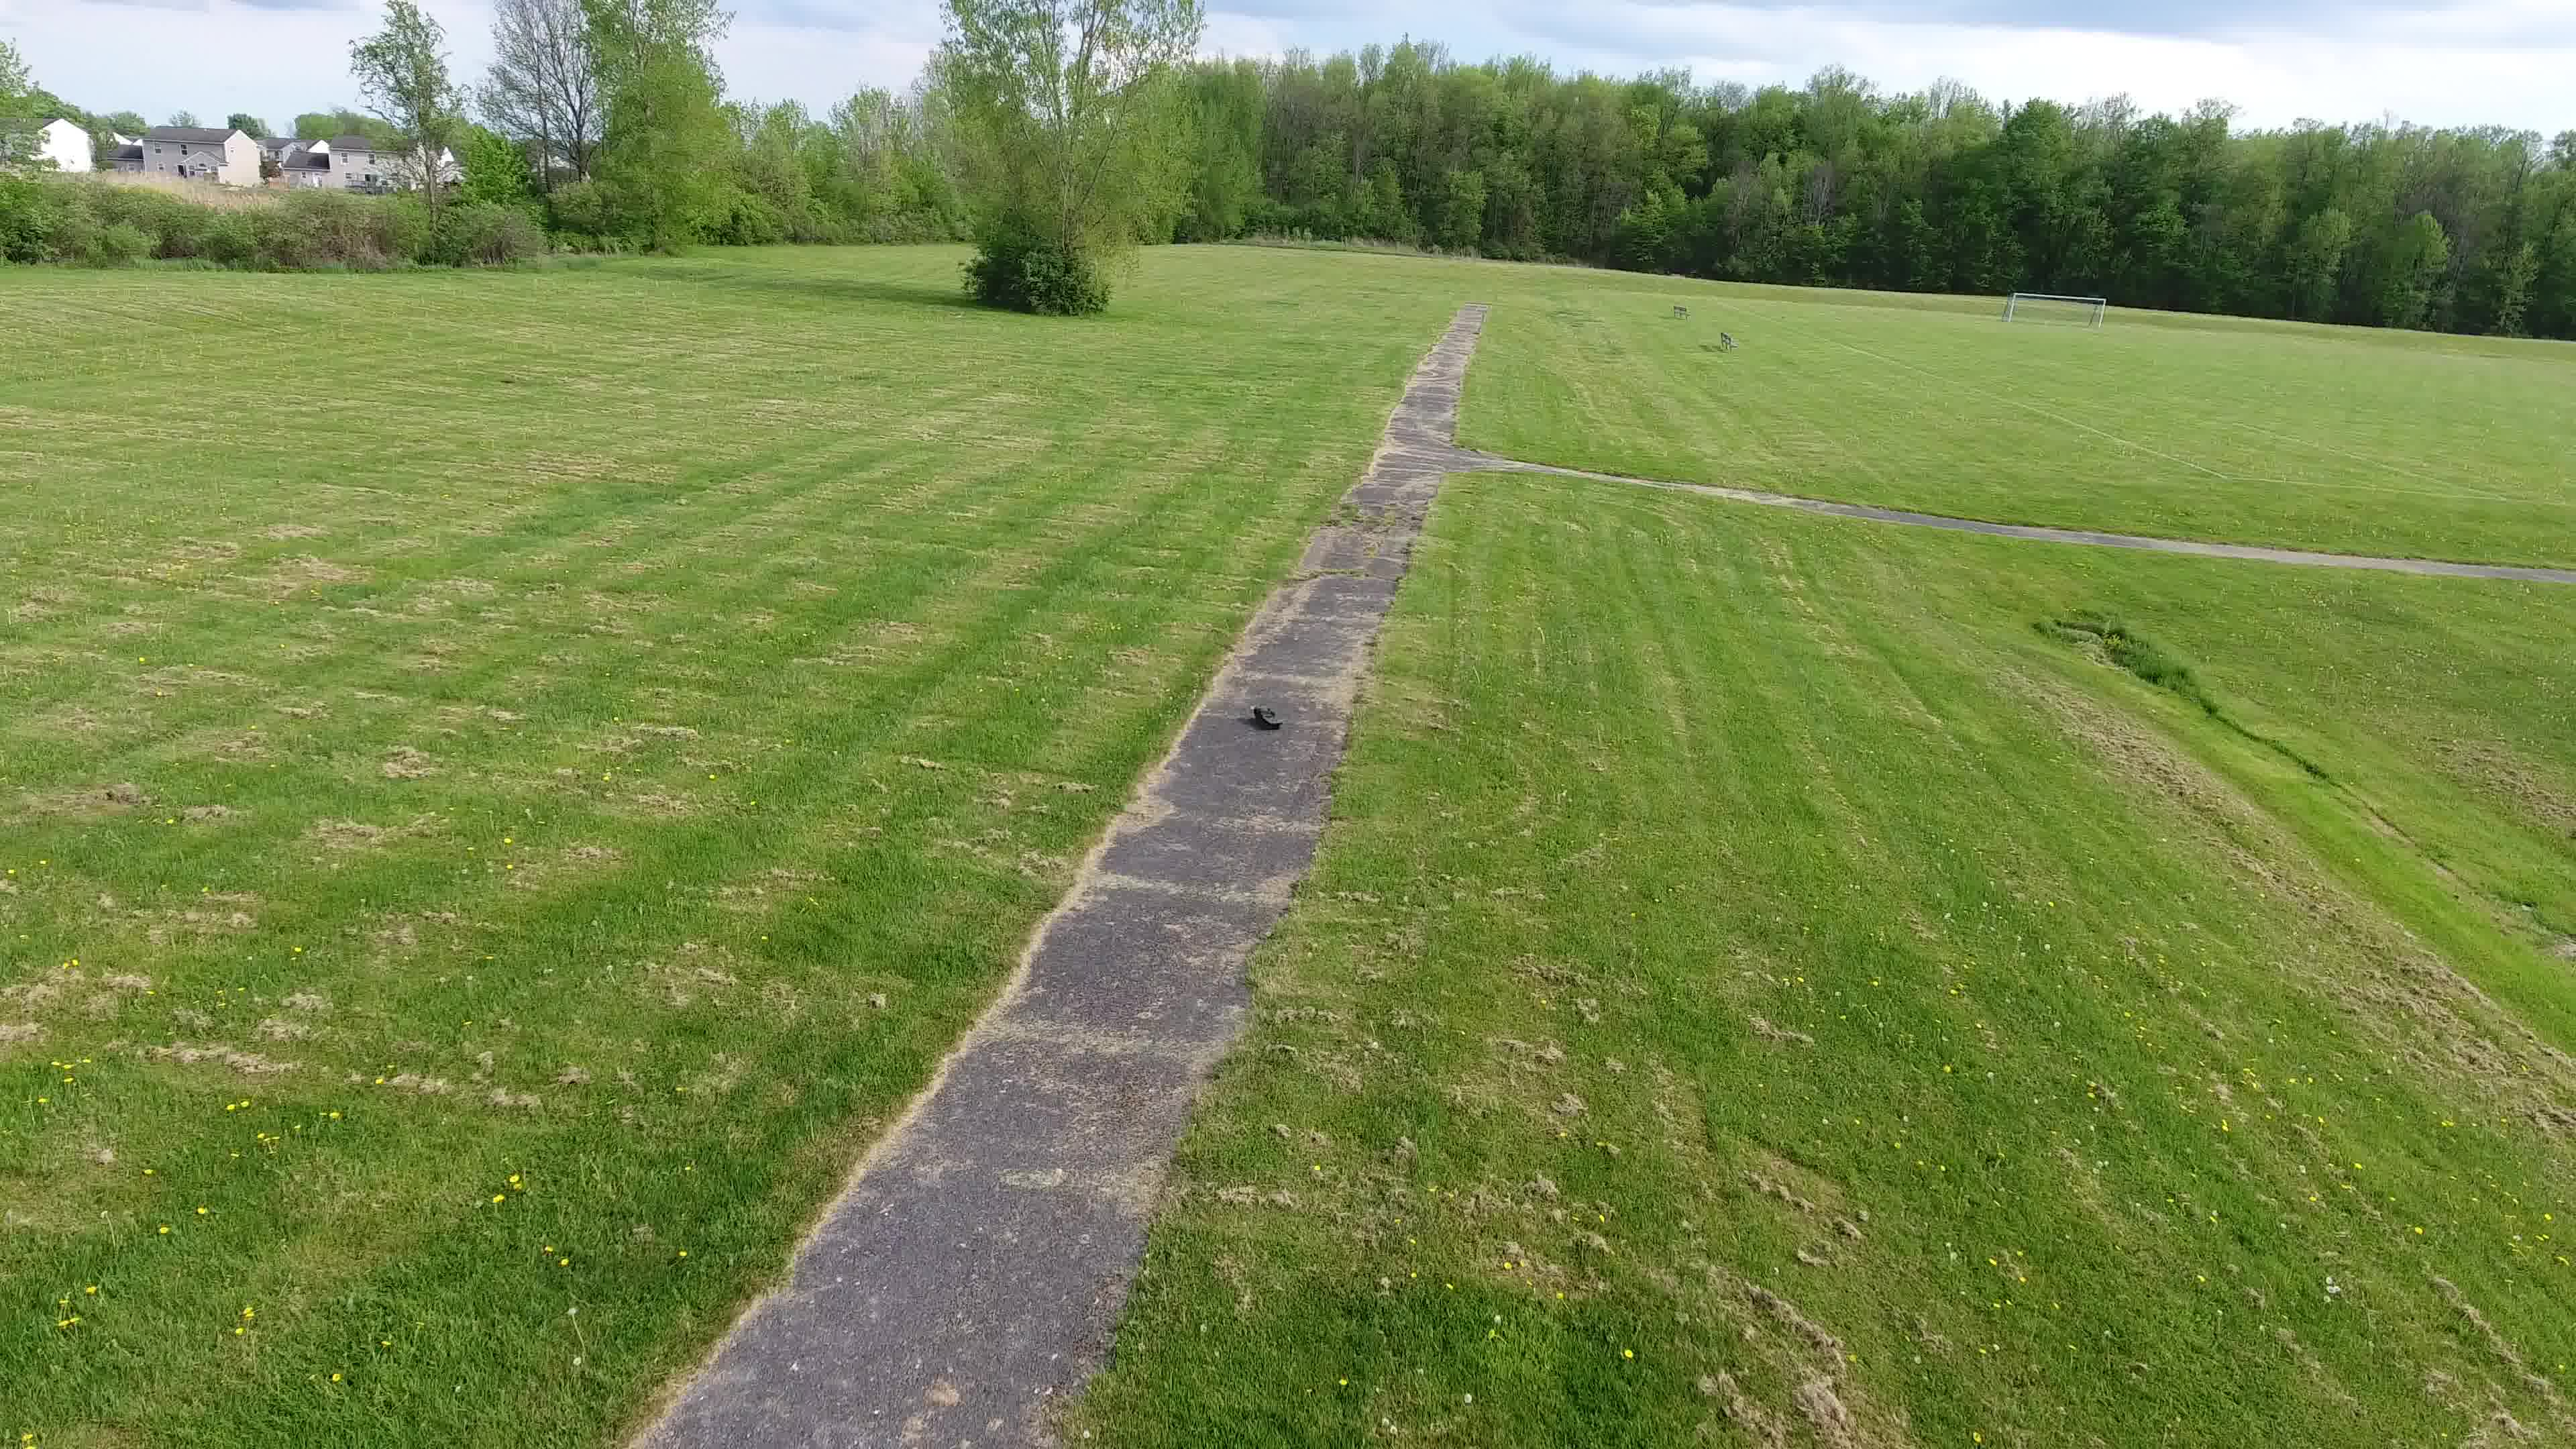transporter9_camo: (1253, 704, 1284, 731)
